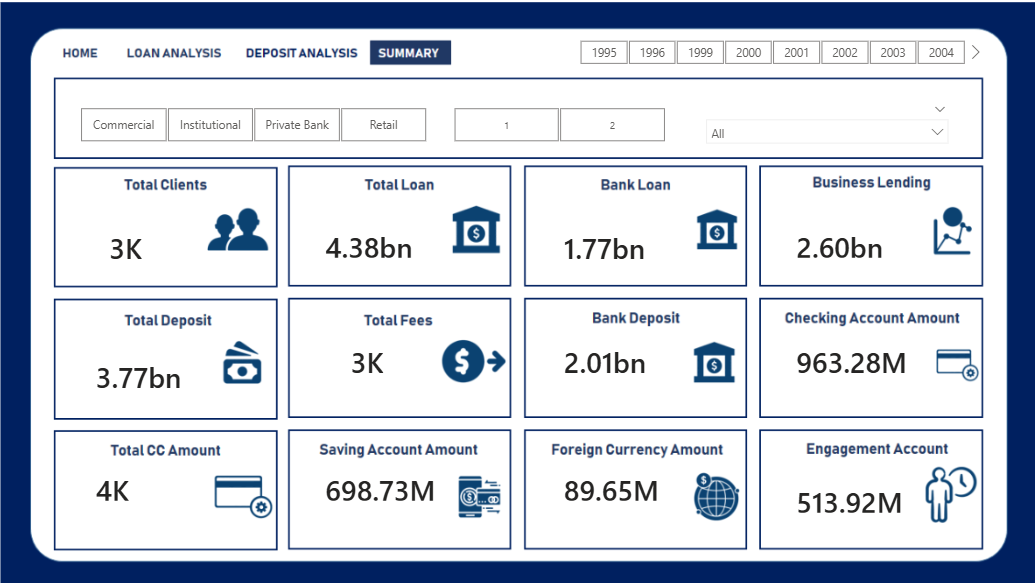

The page's visual inventory and layout, read from the dashboard file:
{"tool":"powerbi","page":{"name":"Summary","canvas":[1280,720],"ordinal":4},"visuals":[{"type":"cardVisual","fields":{"Data":["CountNonNull(banking_case customer.Name)"]},"box":[144,270.9,137.1,63.4],"z":0},{"type":"cardVisual","fields":{"Data":["banking_case customer.Total Loan"]},"box":[390.9,269.1,168,63.4],"z":1},{"type":"cardVisual","fields":{"Data":["Sum(banking_case customer.Bank Loans)"]},"box":[663.4,270.9,168,63.4],"z":2},{"type":"cardVisual","fields":{"Data":["banking_case customer.Total Deposit"]},"box":[128.6,418.3,168,63.4],"z":4},{"type":"cardVisual","fields":{"Data":["Sum(banking_case customer.Amount of Credit Cards)"]},"box":[128.6,546.9,168,63.4],"z":5},{"type":"cardVisual","fields":{"Data":["Sum(banking_case customer.Business Lending)"]},"box":[929.2,269.1,168,63.4],"z":6},{"type":"cardVisual","fields":{"Data":["Sum(banking_case customer.Checking Accounts)"]},"box":[929.2,401.1,185.1,63.4],"z":7},{"type":"cardVisual","fields":{"Data":["Sum(banking_case customer.Bank Deposits)"]},"box":[682.3,401.1,168,63.4],"z":8},{"type":"cardVisual","fields":{"Data":["Sum(banking_case customer.Foreign Currency Account)"]},"box":[663.4,546.9,168,63.4],"z":9},{"type":"cardVisual","fields":{"Data":["Sum(banking_case customer.Saving Accounts)"]},"box":[390.9,546.9,186.9,63.4],"z":10},{"type":"slicer","fields":{"Values":["banking_case customer.BRId"]},"box":[128.6,137.1,420,51.4],"z":11},{"type":"slicer","fields":{"Values":["banking_case customer.GenderId"]},"box":[577.7,137.1,289.7,53.1],"z":12}]}

Visuals, with their boxes in screenshot pixels (x1, y1, x2, y2), scaled from the page's 1280x720 canvas onto the 1035x583 screenshot:
cardVisual - CountNonNull(banking_case customer.Name): 116,219,227,271
cardVisual - banking_case customer.Total Loan: 316,218,452,269
cardVisual - Sum(banking_case customer.Bank Loans): 536,219,672,271
cardVisual - banking_case customer.Total Deposit: 104,339,240,390
cardVisual - Sum(banking_case customer.Amount of Credit Cards): 104,443,240,494
cardVisual - Sum(banking_case customer.Business Lending): 751,218,887,269
cardVisual - Sum(banking_case customer.Checking Accounts): 751,325,901,376
cardVisual - Sum(banking_case customer.Bank Deposits): 552,325,688,376
cardVisual - Sum(banking_case customer.Foreign Currency Account): 536,443,672,494
cardVisual - Sum(banking_case customer.Saving Accounts): 316,443,467,494
slicer - banking_case customer.BRId: 104,111,444,153
slicer - banking_case customer.GenderId: 467,111,701,154
